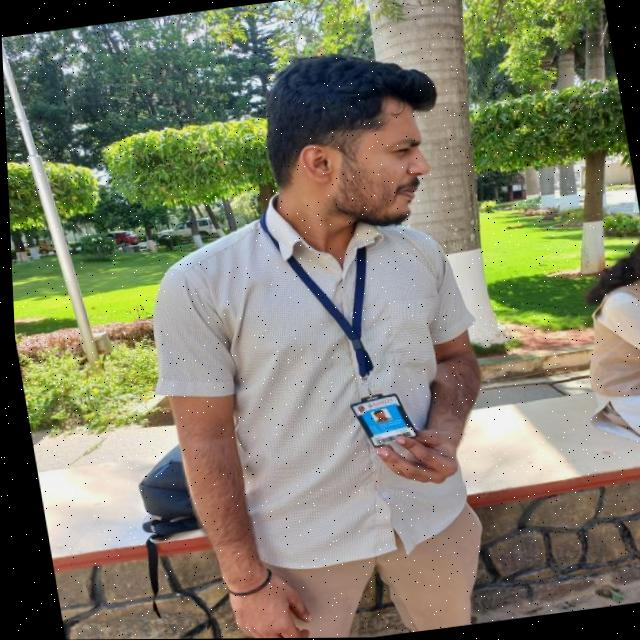id_card: (265, 217, 406, 460)
